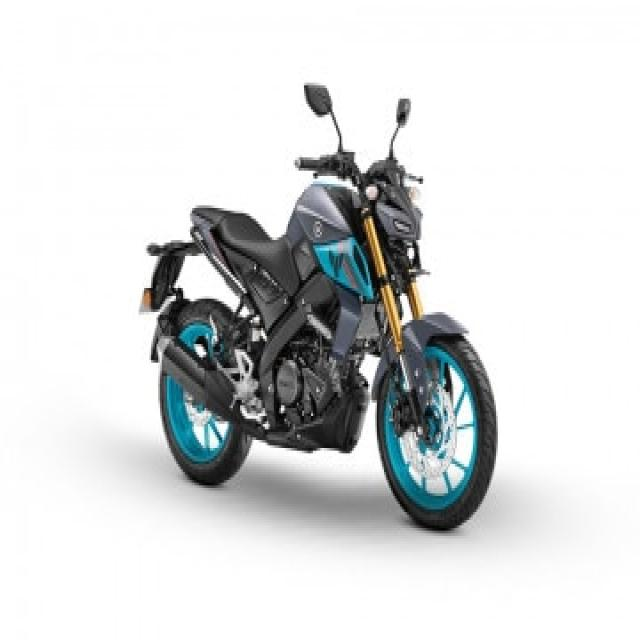Bike: (124, 67, 514, 540)
